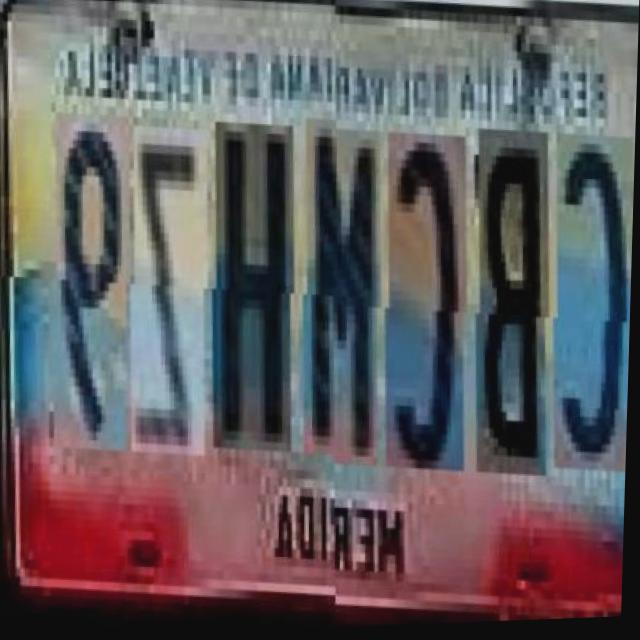9: (42, 131, 134, 475)
b: (465, 134, 554, 486)
c: (376, 138, 470, 482), (544, 137, 636, 481)
h: (203, 139, 298, 474)
m: (293, 134, 385, 479)
z: (120, 144, 212, 478)
